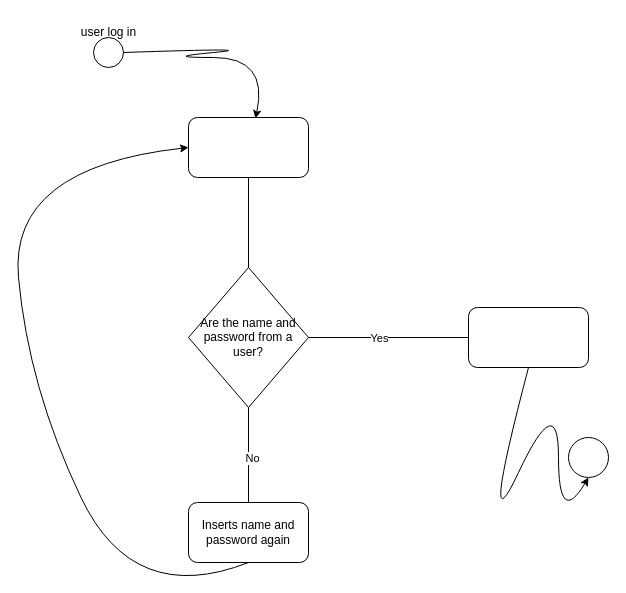
Some shapes in this 626 by 593 pixel diagram are drawn without their labels. The centre of each missing label's shape, as x and y in pixels:
"Open user space from the user selected" belongs at pixel 528 337.
"user puts name and password" belongs at pixel 248 147.
